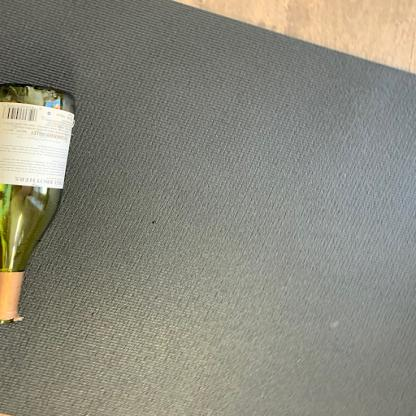trash: (0, 80, 83, 324)
